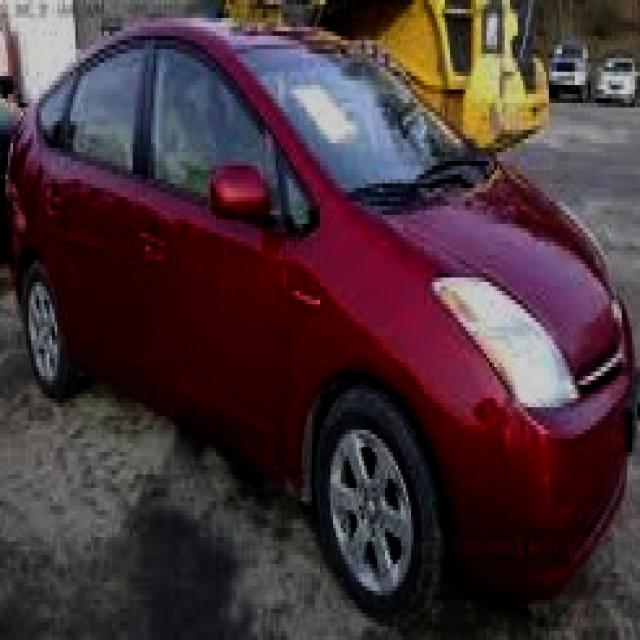red: (12, 19, 640, 587)
